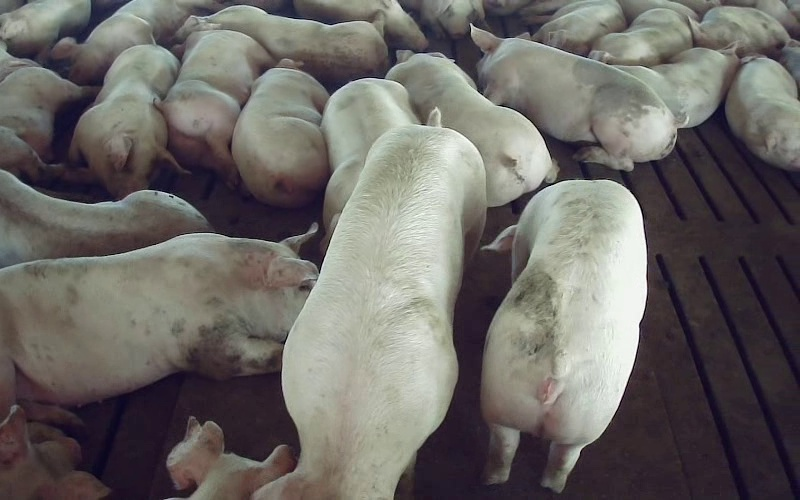pig: (254, 110, 486, 499), (0, 226, 317, 420), (481, 180, 646, 491), (471, 26, 676, 170), (386, 51, 558, 206), (160, 30, 273, 188), (64, 45, 181, 197), (320, 78, 419, 254), (177, 5, 387, 86), (232, 59, 329, 207), (616, 43, 738, 127), (725, 57, 799, 170), (589, 8, 692, 66), (532, 0, 626, 55), (690, 6, 789, 56)
